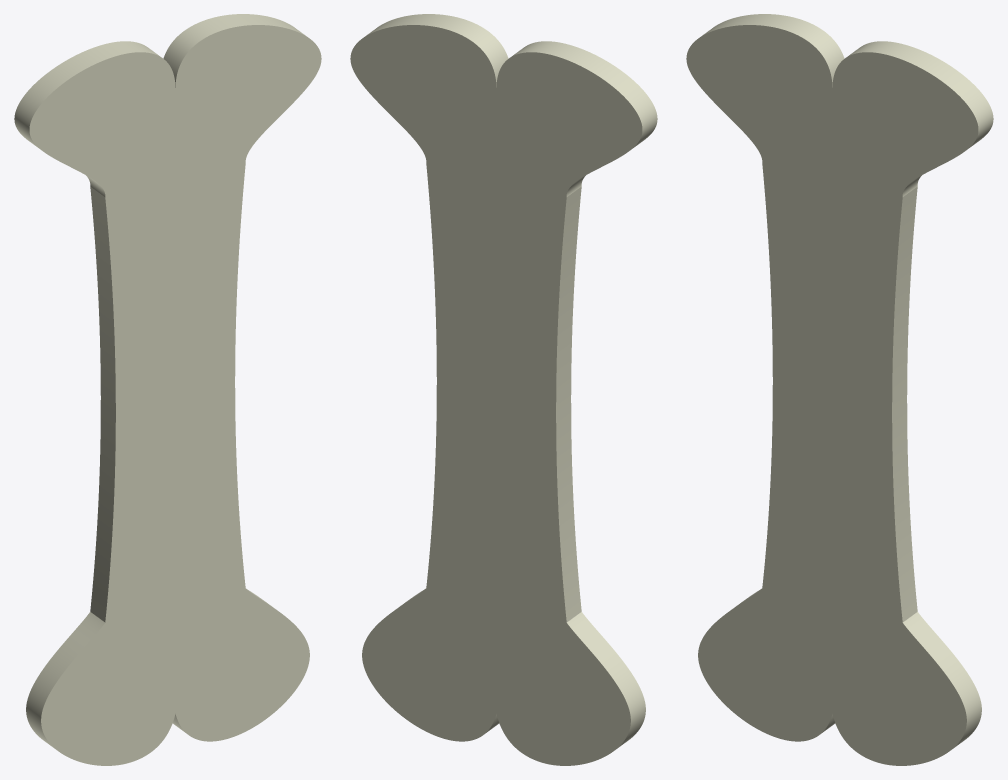
The model's file is BONE 2.fbx.
3 renders of one model, left to right at view 1: azimuth 30°, elevation 25°; view 2: azimuth 150°, elevation 25°; view 3: azimuth 330°, elevation 25°, orthographic.
Parts seen in each view (by area): view 1: bone 2; view 2: bone 2; view 3: bone 2.
Boxes of the visible parts, <box> form: bone 2: <box>14,14,321,765</box>; bone 2: <box>350,14,657,765</box>; bone 2: <box>686,14,993,765</box>.
Bounding box in the file's own units: 56.12 × 130 × 5.
